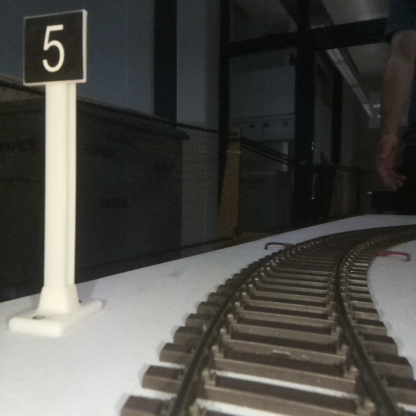black-info-5: (24, 10, 83, 331)
